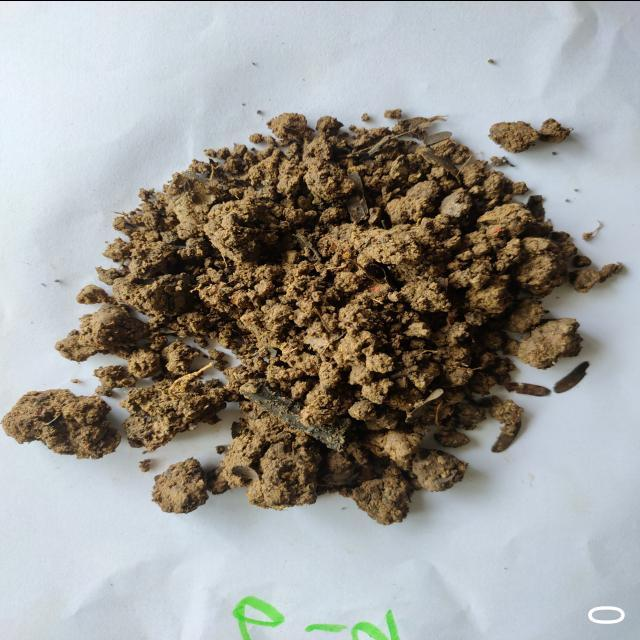soil: (172, 175, 494, 430)
